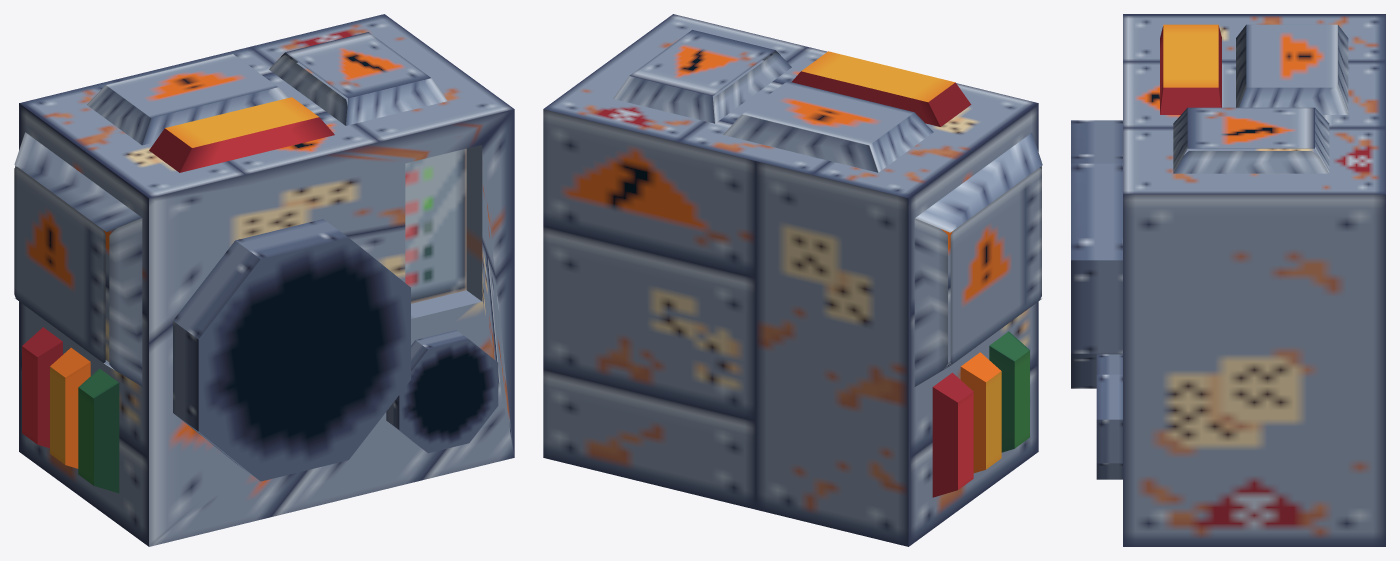
Rendered from Tubulacao redonda.v1.fbx.
3 views of the same model, side by side, from view 1: azimuth 30°, elevation 25°; view 2: azimuth 150°, elevation 25°; view 3: azimuth 270°, elevation 25° (orthographic).
Visible parts, largest first — view 1: Tubulaçao redonda; view 2: Tubulaçao redonda; view 3: Tubulaçao redonda.
Boxes of the visible parts, x1=… form: Tubulaçao redonda: x1=14, y1=14, x2=514, y2=546; Tubulaçao redonda: x1=543, y1=14, x2=1042, y2=546; Tubulaçao redonda: x1=1071, y1=14, x2=1385, y2=546.
Size of the model in its own units: 96.64 by 67.02 by 87.6.
